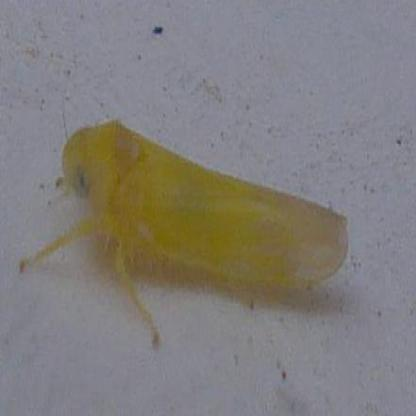brown-planthopper: (20, 121, 350, 350)
